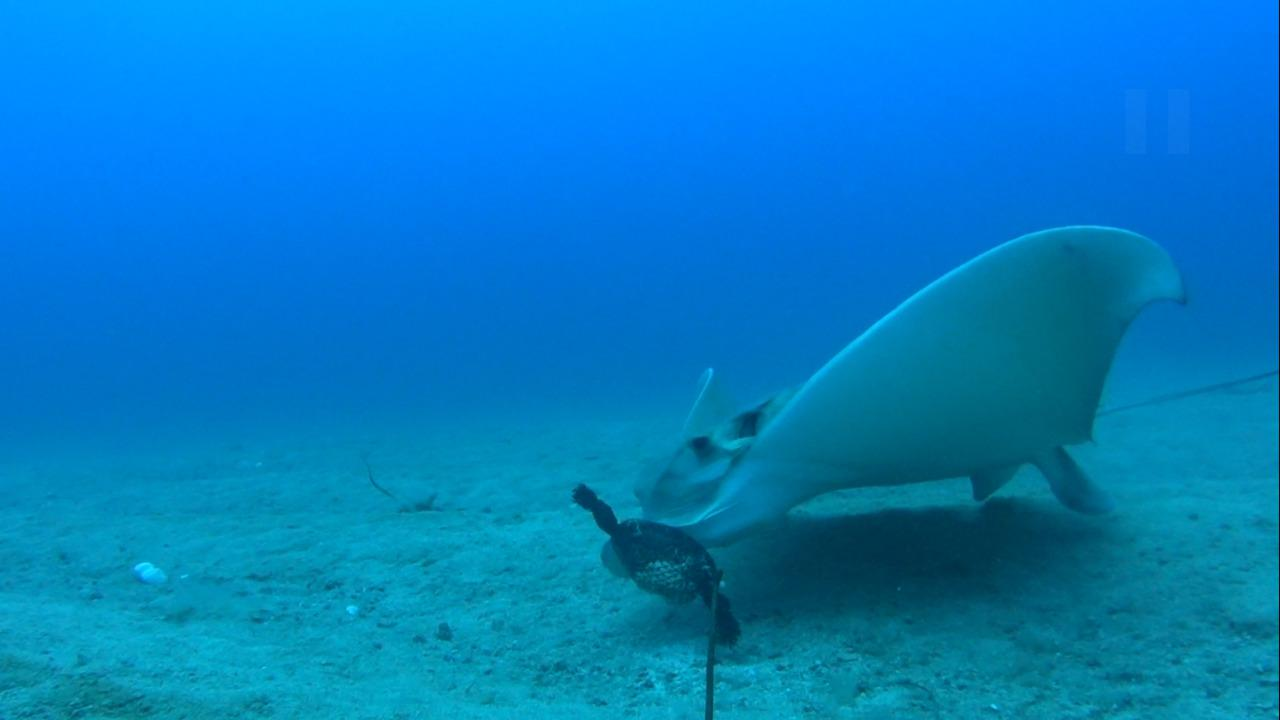myliobatis: (603, 219, 1279, 579)
